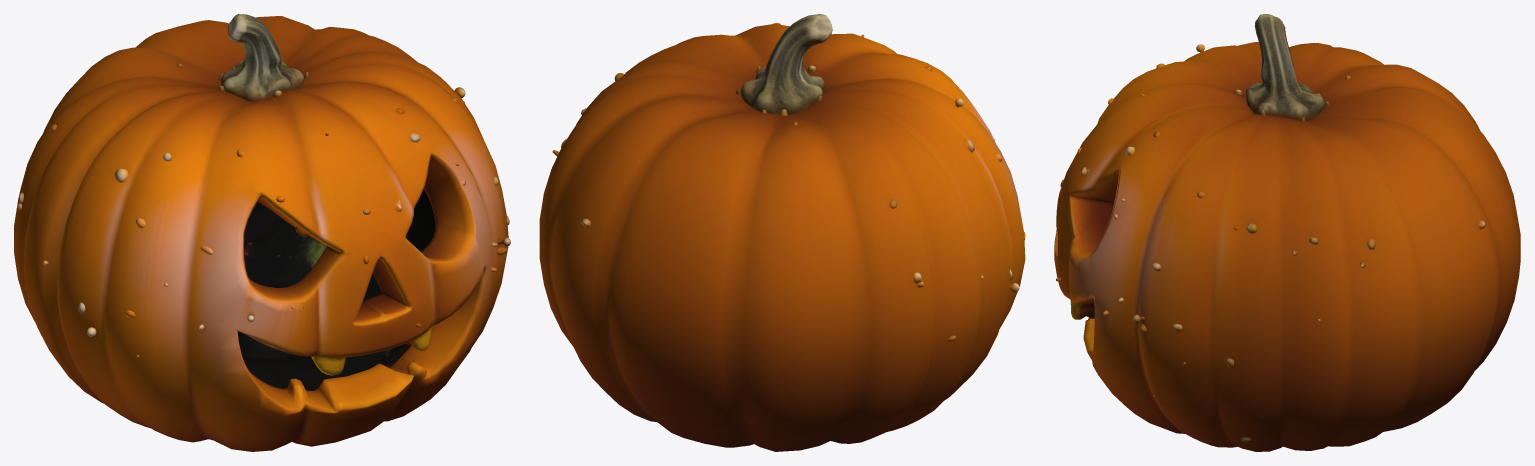
Rendered from pumpkin.glb.
The picture shows the model from 3 angles, left to right: view 1: azimuth 30°, elevation 25°; view 2: azimuth 150°, elevation 25°; view 3: azimuth 270°, elevation 25°; orthographic projection. The views are drawn at different scales.
Parts seen in each view (by area): view 1: jack-o-lantern 3d model; view 2: jack-o-lantern 3d model; view 3: jack-o-lantern 3d model.
Part boxes in pixels (x1,y1,x2,y2): jack-o-lantern 3d model: (14,14,510,451); jack-o-lantern 3d model: (539,14,1025,451); jack-o-lantern 3d model: (1054,14,1520,451).
Size of the model in its own units: 0.9956 by 0.8892 by 0.9995.
Materials: 1 (1 with a texture image).
